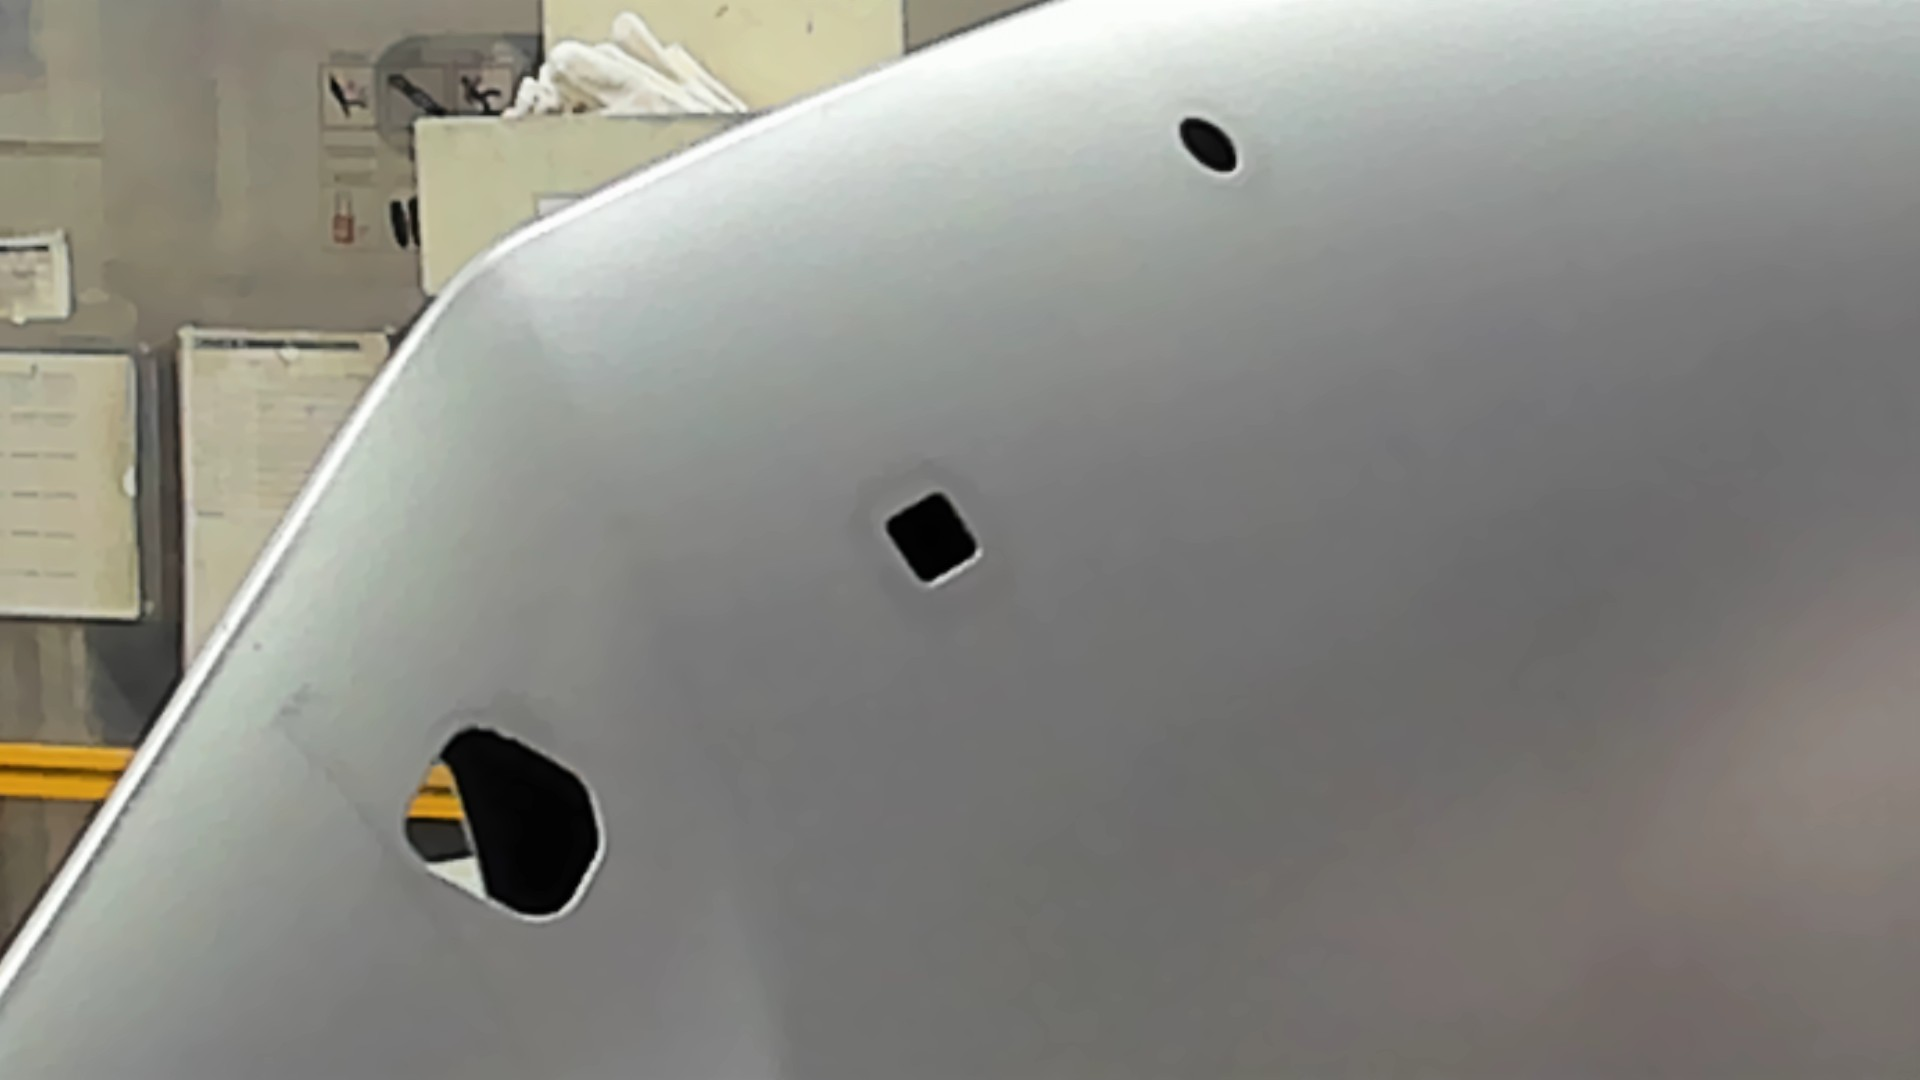capo: (990, 189, 1920, 1080)
chico: (1171, 108, 1247, 181)
grande: (393, 720, 611, 928)
mediano: (874, 487, 988, 588)
